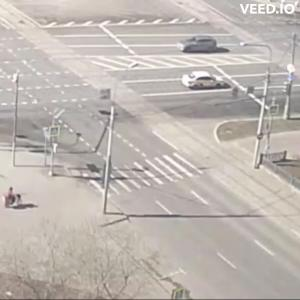car: (179, 72, 228, 95), (176, 36, 227, 58)
